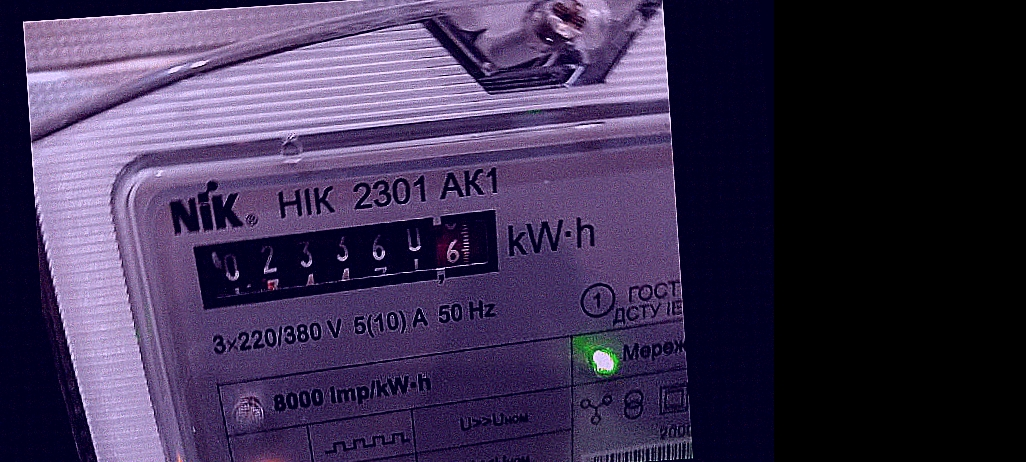0: (218, 247, 242, 283), (400, 221, 424, 254)
2: (257, 240, 279, 274)
3: (330, 228, 351, 262), (292, 236, 313, 269)
6: (440, 232, 464, 266), (365, 228, 388, 262)
screen: (174, 198, 518, 315)
